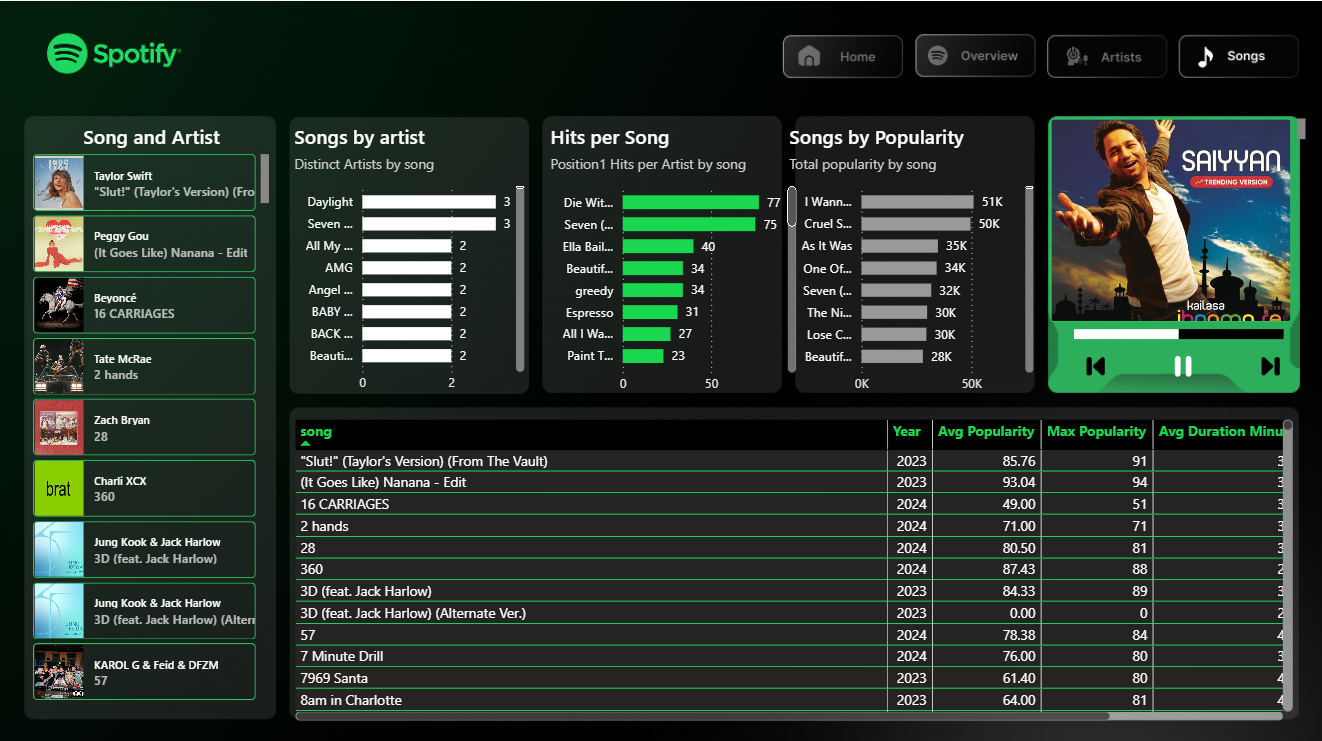

The page's visual inventory and layout, read from the dashboard file:
{"tool":"powerbi","page":{"name":"Song","canvas":[1280,720],"ordinal":2},"visuals":[{"type":"actionButton","box":[758.1,34.3,114.6,39.8],"z":0},{"type":"actionButton","box":[886,34.3,114.6,39.8],"z":1000},{"type":"actionButton","box":[1013.9,34.3,114.6,39.8],"z":2000},{"type":"actionButton","box":[1139.4,34.3,114.6,39.8],"z":3000},{"type":"advancedSlicerVisual","title":"Song and Artist","fields":{"Values":["Top-50-World.song"]},"box":[1009.8,108.6,257,207.5],"z":4000},{"type":"hundredPercentStackedBarChart","fields":{"Y":["_Measures.Avg Popularity","Avg(Top-50-World.popularity)"]},"box":[1032.7,284.7,212.3,67.6],"z":5000},{"type":"image","box":[1048.9,337.6,20,30],"z":6000},{"type":"image","box":[1217.8,337.6,20,30],"z":7000},{"type":"image","box":[1133.3,337.6,20,30],"z":8000},{"type":"advancedSlicerVisual","title":"Song and Artist","fields":{"Values":["Top-50-World.song"]},"box":[27.7,118.2,238.9,562.2],"z":12000},{"type":"tableEx","fields":{"Values":["Top-50-World.song","Top-50-World.release_date.Variation.Date Hierarchy.Year","_Measures.Avg Popularity","_Measures.Max Popularity","_Measures.Avg Duration Minutes","_Measures.Avg Duration per Year"]},"box":[279.9,399.3,973.6,300.4],"z":12001},{"type":"clusteredBarChart","title":"Songs by artist","fields":{"Category":["Top-50-World.song"],"Y":["_Measures.Distinct Artists"]},"box":[279.9,118.3,232.3,268.4],"z":12002},{"type":"clusteredBarChart","title":" Hits per Song","fields":{"Category":["Top-50-World.song"],"Y":["_Measures.Position1 Hits per Artist"]},"box":[527.2,118.2,247.3,269],"z":12003},{"type":"clusteredBarChart","title":"Songs by Popularity","fields":{"Category":["Top-50-World.song"],"Y":["Sum(Top-50-World.popularity)"]},"box":[757.6,118.2,246.1,269],"z":12004}]}

Visuals, with their boxes in screenshot pixels (x1, y1, x2, y2), scaled from the page's 1280x720 canvas onto the 1322x741 screenshot:
actionButton: x1=783, y1=35, x2=901, y2=76
actionButton: x1=915, y1=35, x2=1033, y2=76
actionButton: x1=1047, y1=35, x2=1166, y2=76
actionButton: x1=1177, y1=35, x2=1295, y2=76
"Song and Artist" advancedSlicerVisual: x1=1043, y1=112, x2=1308, y2=325
hundredPercentStackedBarChart - _Measures.Avg Popularity x Avg(Top-50-World.popularity): x1=1067, y1=293, x2=1286, y2=363
image: x1=1083, y1=347, x2=1104, y2=378
image: x1=1258, y1=347, x2=1278, y2=378
image: x1=1170, y1=347, x2=1191, y2=378
"Song and Artist" advancedSlicerVisual: x1=29, y1=122, x2=275, y2=700
tableEx - Top-50-World.song x Top-50-World.release_date.Variation.Date Hierarchy.Year: x1=289, y1=411, x2=1295, y2=720
"Songs by artist" clusteredBarChart: x1=289, y1=122, x2=529, y2=398
" Hits per Song" clusteredBarChart: x1=544, y1=122, x2=800, y2=398
"Songs by Popularity" clusteredBarChart: x1=782, y1=122, x2=1037, y2=398
